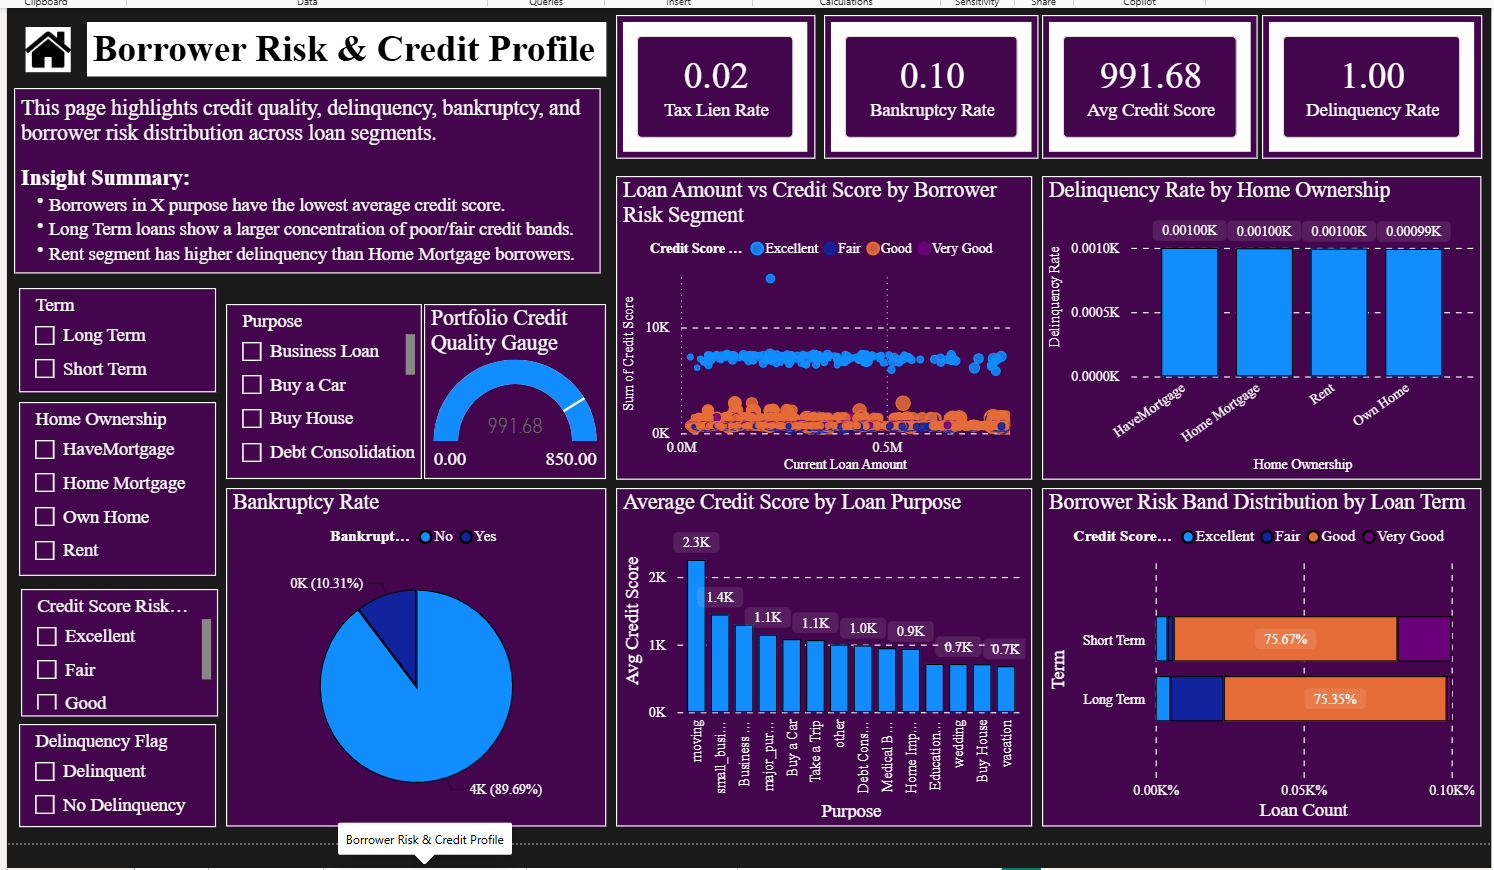

The dashboard page shown, as its layout file describes it:
{"tool":"powerbi","page":{"name":"Borrower Risk & Credit Profile","canvas":[1280,720],"ordinal":2},"visuals":[{"type":"cardVisual","title":"Avg Credit Score","fields":{"Data":["credit_test.Avg Credit Score"]},"box":[892.8,5.6,186.2,124.2],"z":0},{"type":"cardVisual","title":"Bankruptcy Rate","fields":{"Data":["credit_test.Delinquency Rate"]},"box":[1082.5,5.6,189.6,124.2],"z":1000},{"type":"cardVisual","title":"Avg Credit Problems","fields":{"Data":["credit_test.Bankruptcy Rate"]},"box":[704.3,5.6,185.1,124.2],"z":2000},{"type":"slicer","fields":{"Values":["credit_test.Term"]},"box":[10.2,241.6,170.4,90.3],"z":3000},{"type":"slicer","fields":{"Values":["credit_test.Purpose"]},"box":[188.5,255.1,169.3,151.3],"z":4000},{"type":"slicer","fields":{"Values":["credit_test.Home Ownership"]},"box":[10.4,339.4,169.7,150.3],"z":5000},{"type":"clusteredColumnChart","title":"Average Credit Score by Loan Purpose","fields":{"Category":["credit_test.Purpose"],"Y":["credit_test.Avg Credit Score"]},"box":[524.9,414.3,358.9,292.3],"z":6000},{"type":"cardVisual","title":"Delinquency Flag","fields":{"Data":["credit_test.Tax Lien Rate"]},"box":[524.9,5.6,171.6,124.2],"z":7000},{"type":"slicer","fields":{"Values":["credit_test.Credit Score Risk Band"]},"box":[11.7,501.4,169.7,110.1],"z":8000},{"type":"hundredPercentStackedBarChart","title":"Borrower Risk Band Distribution by Loan Term","fields":{"Series":["credit_test.Credit Score Risk Band"],"Category":["credit_test.Term"],"Y":["credit_test.Loan Count"]},"box":[892.8,414.3,379.3,292.3],"z":9000},{"type":"clusteredColumnChart","title":"Delinquency Rate by Home Ownership","fields":{"Category":["credit_test.Home Ownership"],"Y":["credit_test.Delinquency Rate"]},"box":[892.8,144.5,379.3,261.9],"z":10000},{"type":"scatterChart","title":"Loan Amount vs Credit Score by Borrower Risk Segment","fields":{"X":["credit_test.Current Loan Amount"],"Series":["credit_test.Credit Score Risk Band"],"Size":["Sum(credit_test.Annual Income)"],"Y":["Sum(credit_test.Credit Score)"]},"box":[524.9,144.5,358.9,261.9],"z":11000},{"type":"pieChart","title":"Bankruptcy Rate","fields":{"Category":["credit_test.Bankruptcy Flag"],"Y":["credit_test.Loan Count"]},"box":[188.5,414.3,328.5,292.3],"z":12000},{"type":"gauge","title":"Portfolio Credit Quality Gauge","fields":{"Y":["credit_test.Avg Credit Score"]},"box":[360,255.2,157.2,151.3],"z":13000},{"type":"slicer","fields":{"Values":["credit_test.Delinquency Flag"]},"box":[10.2,617.4,170.4,89.2],"z":14000},{"type":"image","box":[0,16.1,71.8,38.9],"z":15000},{"type":"textbox","box":[69.3,11.8,447.9,47.3],"z":16000},{"type":"textbox","box":[6.4,68.8,505.6,160],"z":17000}]}

Visuals, with their boxes on the page's 1280x720 design canvas (x1, y1, x2, y2). These are canvas units, not pixel positions in the 1494x870 screenshot, which may show the page scaled, cropped or inside an application window:
"Avg Credit Score" cardVisual: left=893, top=6, right=1079, bottom=130
"Bankruptcy Rate" cardVisual: left=1082, top=6, right=1272, bottom=130
"Avg Credit Problems" cardVisual: left=704, top=6, right=889, bottom=130
slicer - credit_test.Term: left=10, top=242, right=181, bottom=332
slicer - credit_test.Purpose: left=188, top=255, right=358, bottom=406
slicer - credit_test.Home Ownership: left=10, top=339, right=180, bottom=490
"Average Credit Score by Loan Purpose" clusteredColumnChart: left=525, top=414, right=884, bottom=707
"Delinquency Flag" cardVisual: left=525, top=6, right=696, bottom=130
slicer - credit_test.Credit Score Risk Band: left=12, top=501, right=181, bottom=612
"Borrower Risk Band Distribution by Loan Term" hundredPercentStackedBarChart: left=893, top=414, right=1272, bottom=707
"Delinquency Rate by Home Ownership" clusteredColumnChart: left=893, top=144, right=1272, bottom=406
"Loan Amount vs Credit Score by Borrower Risk Segment" scatterChart: left=525, top=144, right=884, bottom=406
"Bankruptcy Rate" pieChart: left=188, top=414, right=517, bottom=707
"Portfolio Credit Quality Gauge" gauge: left=360, top=255, right=517, bottom=406
slicer - credit_test.Delinquency Flag: left=10, top=617, right=181, bottom=707
image: left=0, top=16, right=72, bottom=55
textbox: left=69, top=12, right=517, bottom=59
textbox: left=6, top=69, right=512, bottom=229
